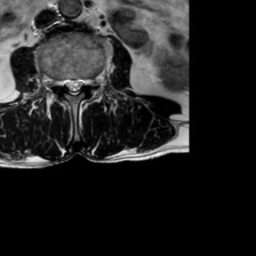CCS_stenosis: (70, 69, 77, 102)
LFS_normal: (85, 69, 94, 92)
LLS_stenosis: (77, 69, 85, 96)
RFS_normal: (54, 69, 62, 93)
RLS_normal: (62, 69, 70, 95)
